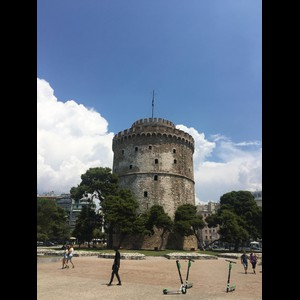White Tower: (101, 87, 200, 255)
